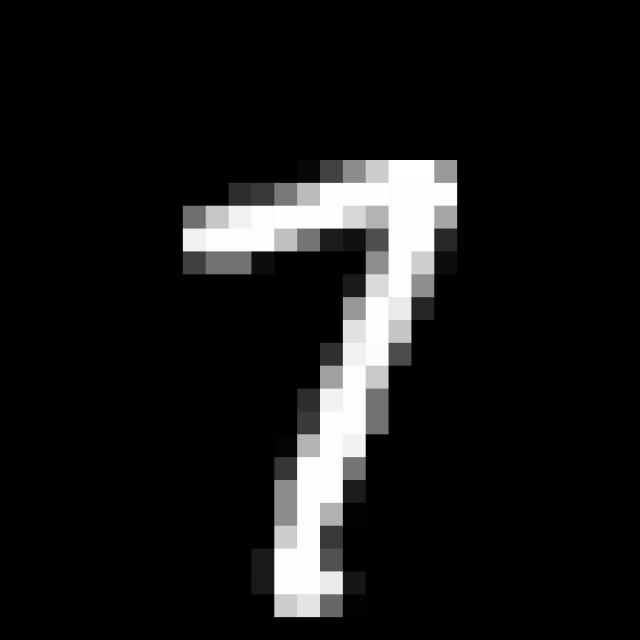seven -7-: (164, 141, 464, 640)
